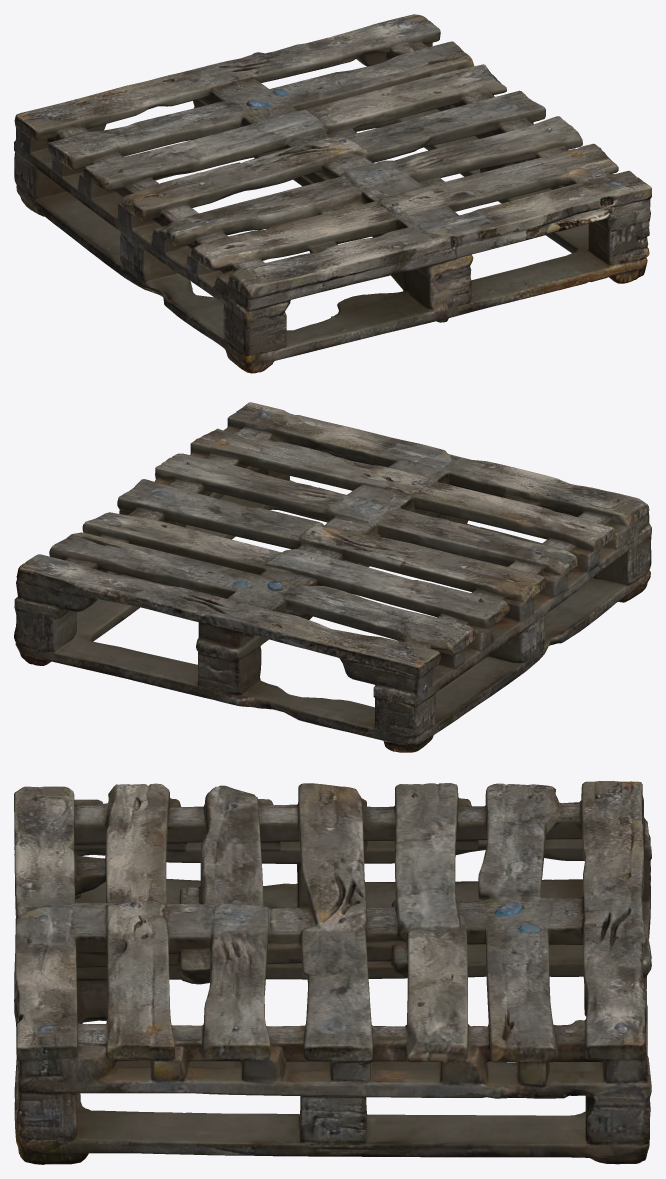
File: pallet.glb
The picture shows the model from 3 angles, top to bottom: view 1: azimuth 30°, elevation 25°; view 2: azimuth 150°, elevation 25°; view 3: azimuth 270°, elevation 25°; orthographic projection. The views are drawn at different scales.
Size of the model in its own units: 0.9779 by 0.2179 by 0.9791.
1 material, 1 textured.
